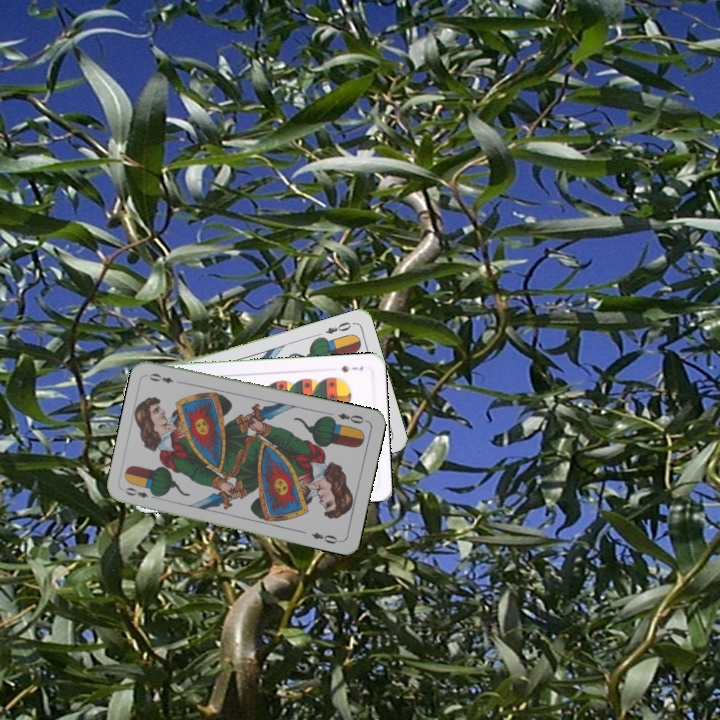EO: (121, 483, 160, 502), (321, 318, 357, 337), (334, 409, 370, 426)
S7: (337, 361, 366, 375)
